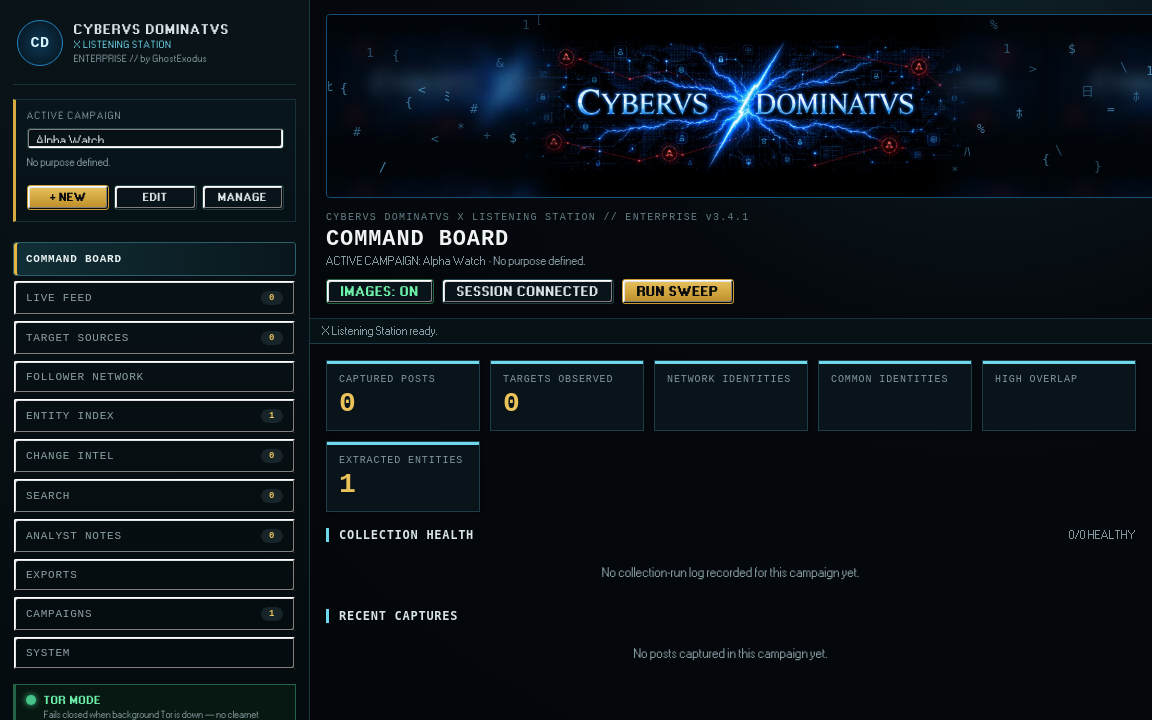
Test case: X Listening ENTITY INDEX — display pics › a MENTION entity with NO cached avatar renders the monogram fallback (no broken image)
Click the button with class "xls-tab" showing "ENTITY INDEX 1" at {"x": 70, "y": 416}, box [13,398,296,434]
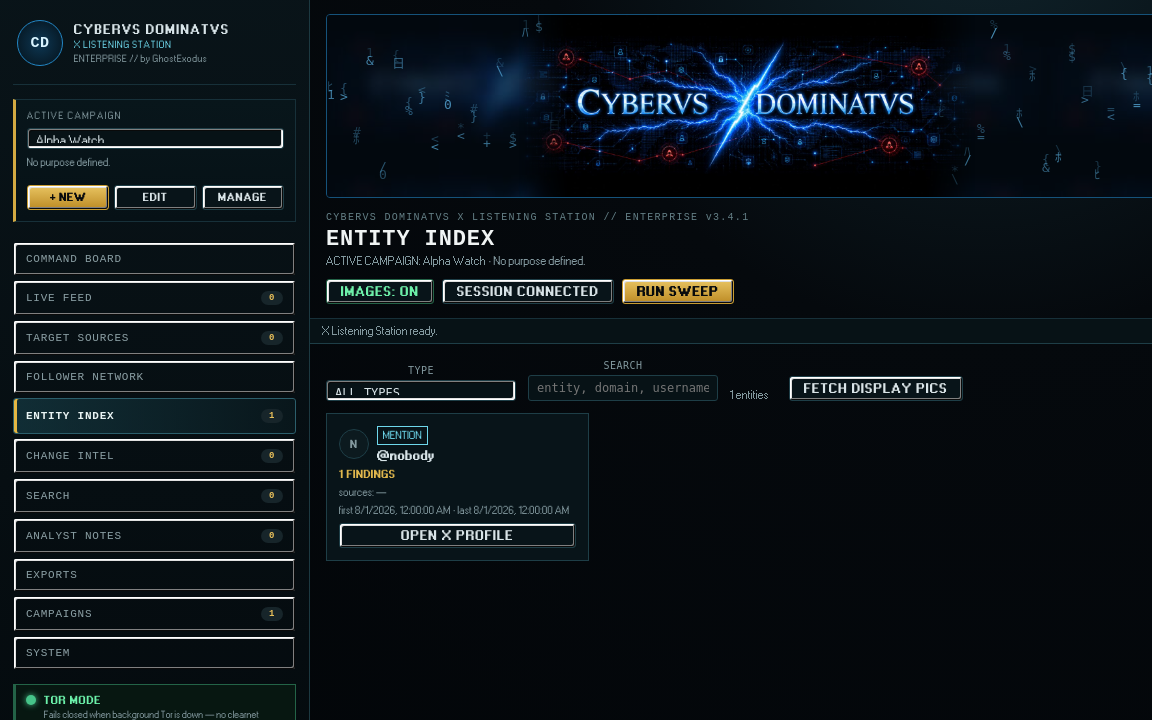
Expected: the element with class "xls-ident-avatar" reads "N", [350,439,358,450]
Now the element with class "xls-entity-heading" is shown, box [339,426,435,462]
